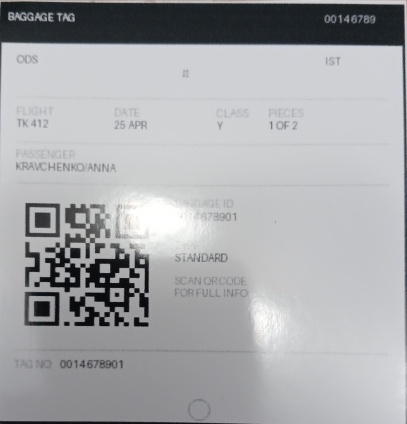LPN_bottom: (54, 353, 128, 370)
